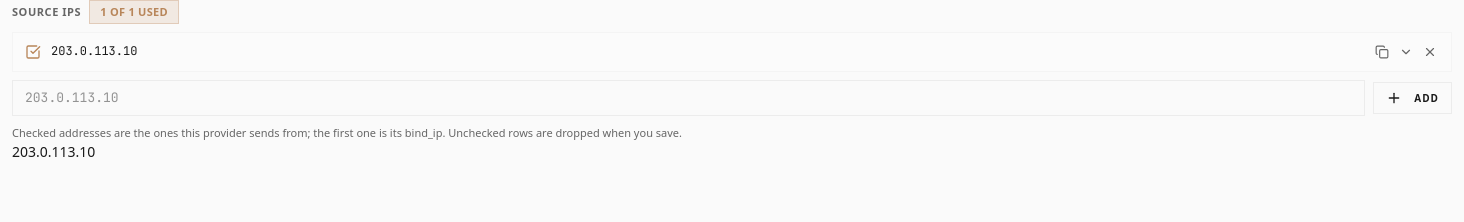
Scenario: IpListEditor › adds an address and refuses invalid or duplicate input
The image size is (1464, 222).
Type "999.1.1.1" into the field named "New source IP" at [689, 98], box [12, 80, 1365, 116]
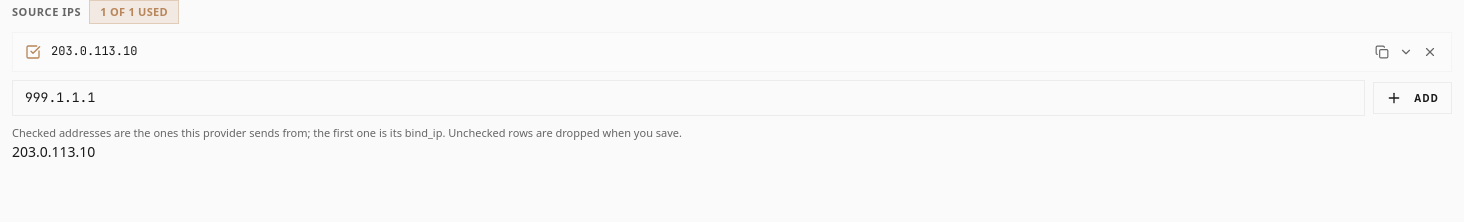
Click the button "Add" at [1413, 98], box [1373, 82, 1452, 114]
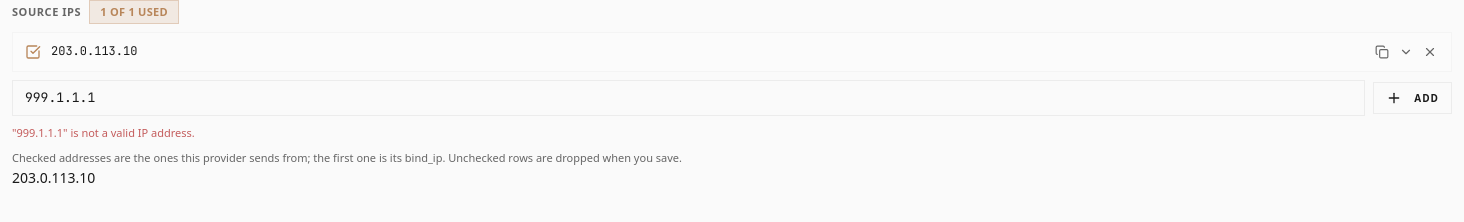
Now the text "\"999.1.1.1\" is not a valid IP address." is shown, box [12, 125, 195, 140]
Replace the text in the field named "New source IP" with "203.0.113.10" at [689, 98], box [12, 80, 1365, 116]
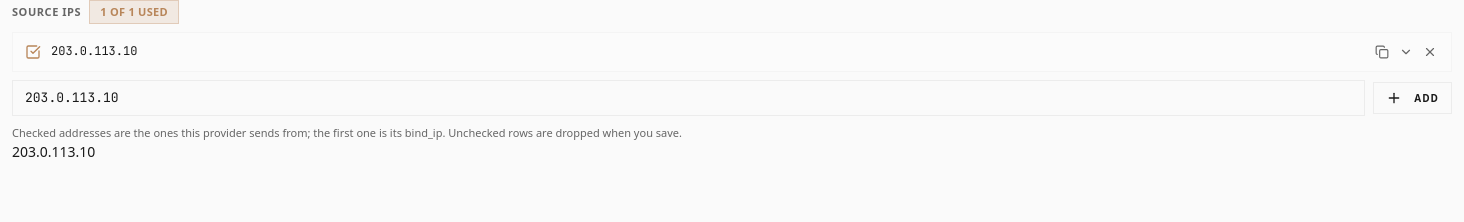
Press Enter in the field named "New source IP", box [12, 80, 1365, 116]
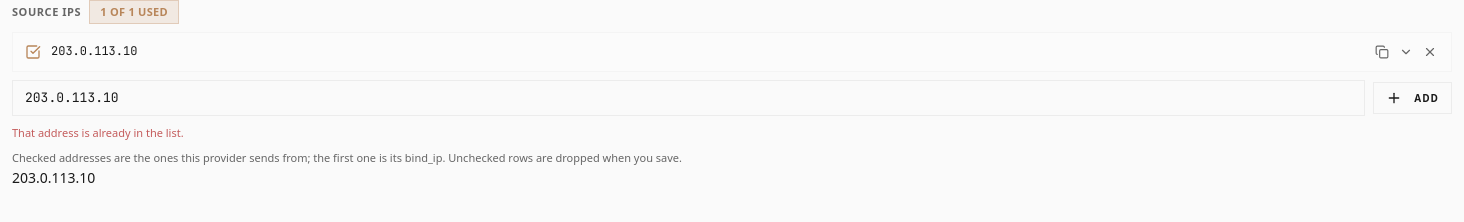
Now the text "That address is already in the list." is shown, box [12, 125, 184, 140]
Type "198.51.100.7" into the field named "New source IP" at [689, 98], box [12, 80, 1365, 116]
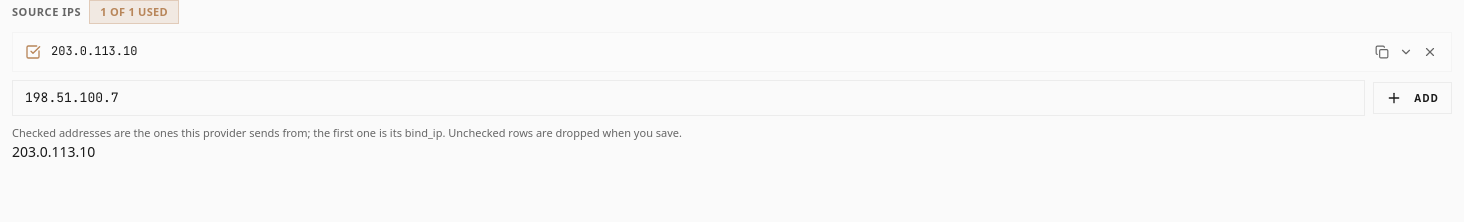
Press Enter in the field named "New source IP", box [12, 80, 1365, 116]
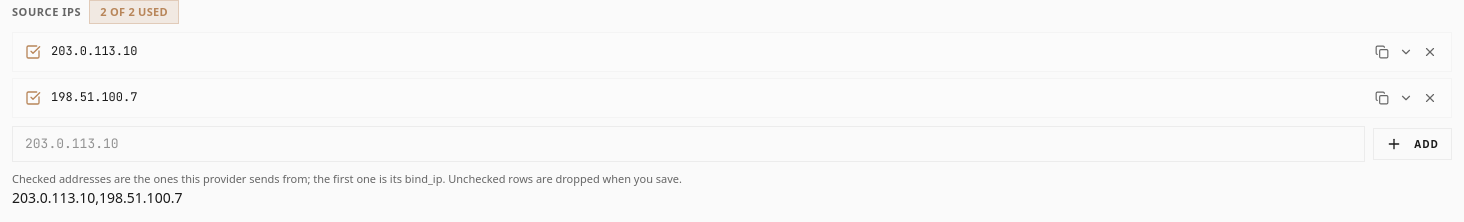
Expected: the text "is not a valid IP address" is not shown
Now the text "2 of 2 used" is shown, box [89, 0, 179, 24]
